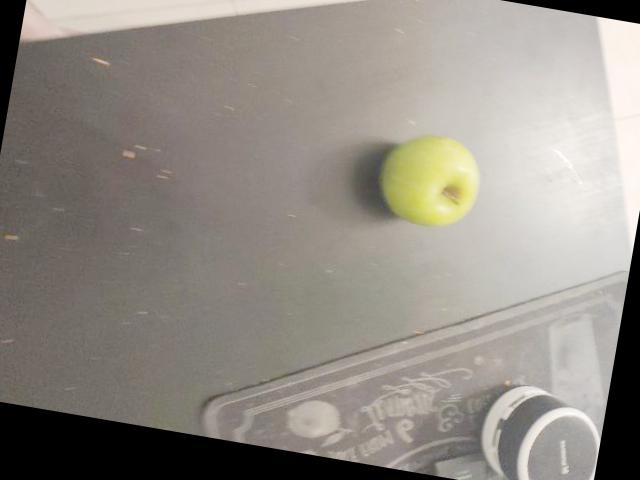apple: (376, 190, 501, 331)
